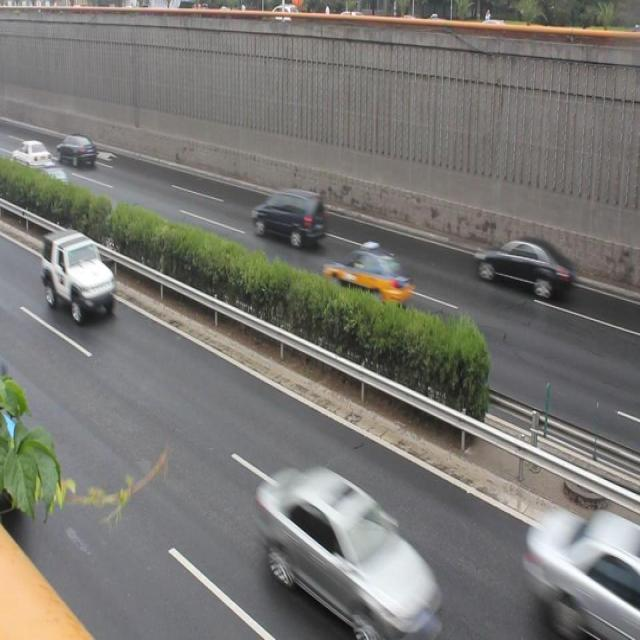car: (260, 464, 442, 624), (526, 501, 640, 640), (42, 229, 117, 320), (473, 233, 574, 297), (323, 240, 414, 304), (27, 168, 72, 210), (56, 134, 97, 169)
truck: (251, 185, 327, 245)
